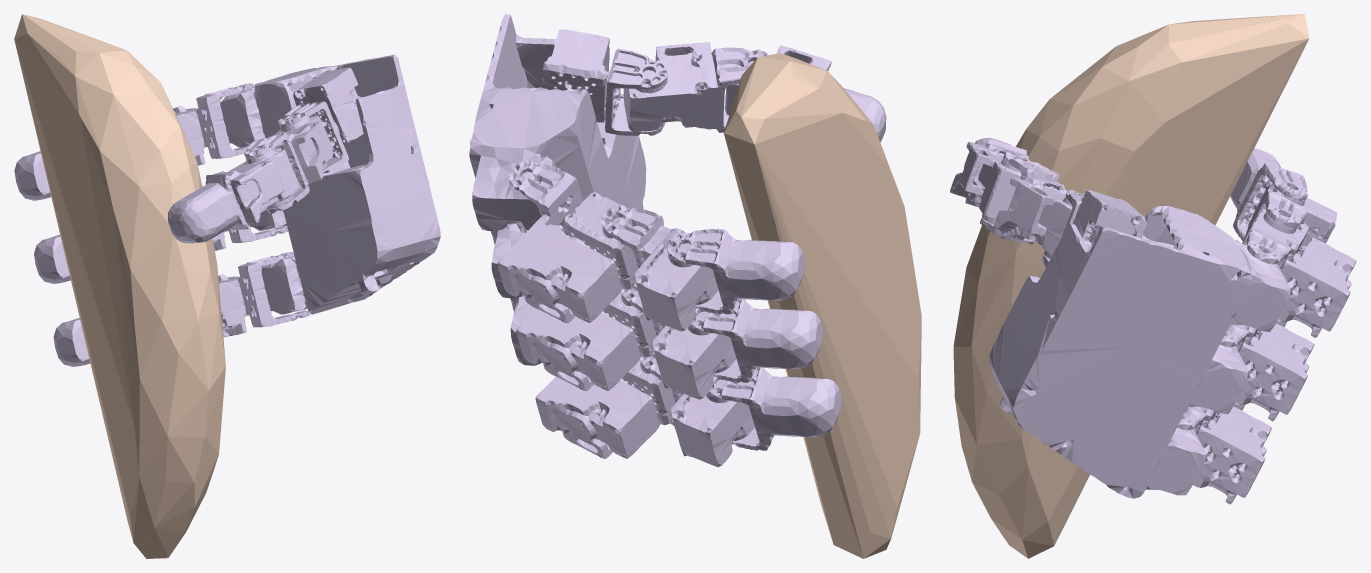
3 renders of one model, left to right at view 1: azimuth 30°, elevation 25°; view 2: azimuth 150°, elevation 25°; view 3: azimuth 270°, elevation 25°, orthographic. The views are drawn at different scales.
Visible parts, largest first — view 1: world, LEAP_hand; view 2: LEAP_hand, world; view 3: LEAP_hand, world.
Boxes of the visible parts, left/top/right/bottom form: world: left=14, top=14, right=225, bottom=558; LEAP_hand: left=14, top=54, right=440, bottom=366; LEAP_hand: left=469, top=14, right=886, bottom=467; world: left=724, top=53, right=921, bottom=558; LEAP_hand: left=950, top=138, right=1356, bottom=504; world: left=953, top=14, right=1309, bottom=558.
Bounding box in the file's own units: 0.1918 × 0.2665 × 0.185.
